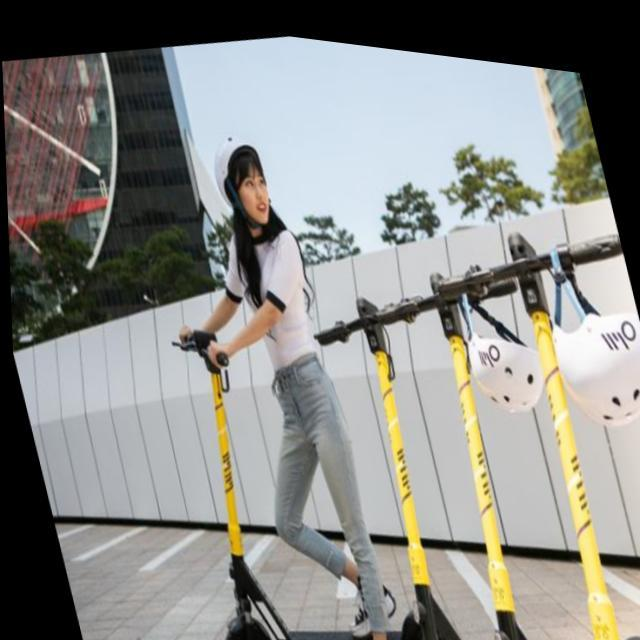Helmet: (207, 125, 281, 234)
